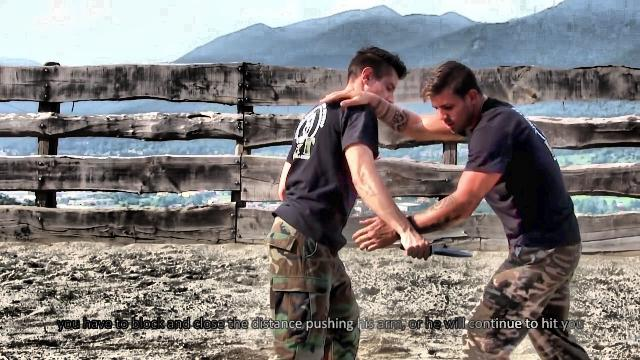knife: (398, 238, 477, 262)
